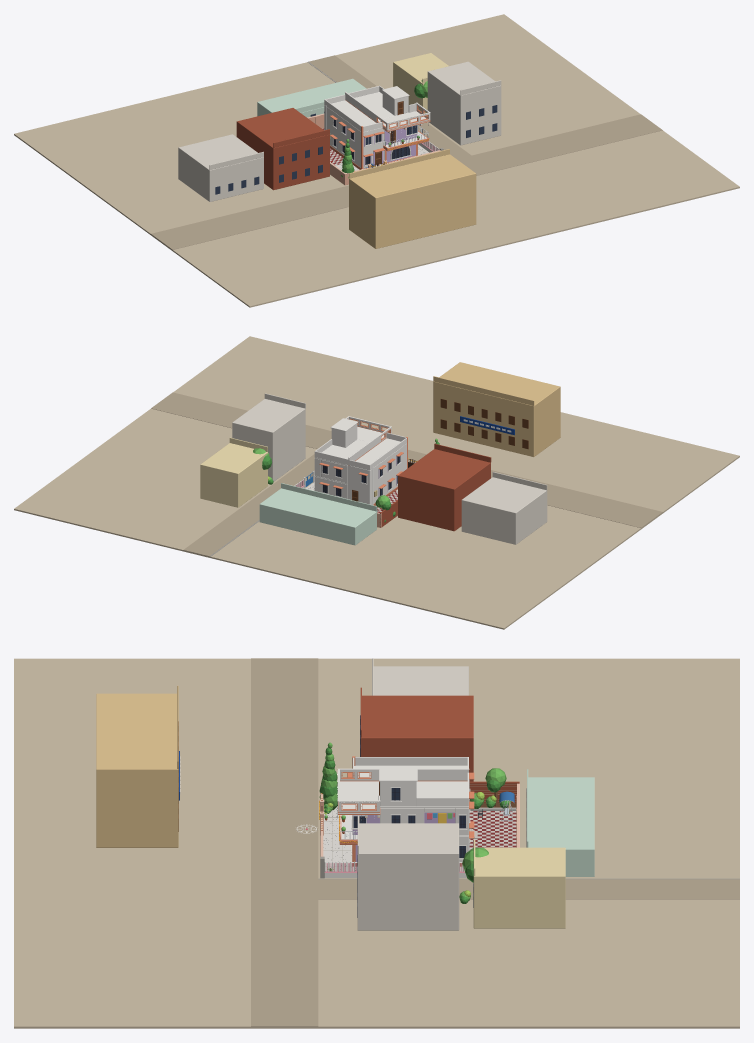
The model's file is house_exterior.glb.
The picture shows the model from 3 angles, top to bottom: view 1: azimuth 30°, elevation 25°; view 2: azimuth 150°, elevation 25°; view 3: azimuth 270°, elevation 25°; orthographic projection. The views are drawn at different scales.
Parts seen in each view (by area): view 1: Ground, Neighbours, College_Across, Block_A, Crown, Block_B, Stair_Room, Boundary_Wall; view 2: Ground, Neighbours, College_Across, Block_A, Crown, Block_B, Stair_Room, Back_Features; view 3: Ground, Neighbours, College_Across, Crown, Yard_Floor, Block_B, Block_A, Trees_Plants, Stair_Room, Backyard, Boundary_Wall, Fence_Blue_Gate.
Part boxes in pixels (x1,y1,x2,y2): Ground: (14,14,739,307); Neighbours: (178,53,501,201); College_Across: (349,149,476,248); Block_A: (324,94,385,168); Crown: (345,85,430,133); Block_B: (384,124,418,162); Stair_Room: (382,86,409,115); Boundary_Wall: (307,113,440,185); Ground: (14,336,739,629); Neighbours: (200,393,547,545); College_Across: (433,362,560,456); Block_A: (347,432,407,504); Crown: (314,416,391,465); Block_B: (314,458,347,498); Stair_Room: (330,418,358,447); Back_Features: (319,463,377,507); Ground: (14,658,739,1028); Neighbours: (357,658,594,930); College_Across: (96,685,180,847); Crown: (338,768,469,817); Yard_Floor: (323,806,516,871); Block_B: (351,808,468,861); Block_A: (347,756,468,782); Trees_Plants: (319,742,488,903); Stair_Room: (379,769,417,806); Backyard: (470,768,516,820); Boundary_Wall: (319,781,519,856); Fence_Blue_Gate: (320,856,466,878).
Bounding box in the file's own units: 90 × 10.2 × 75.
